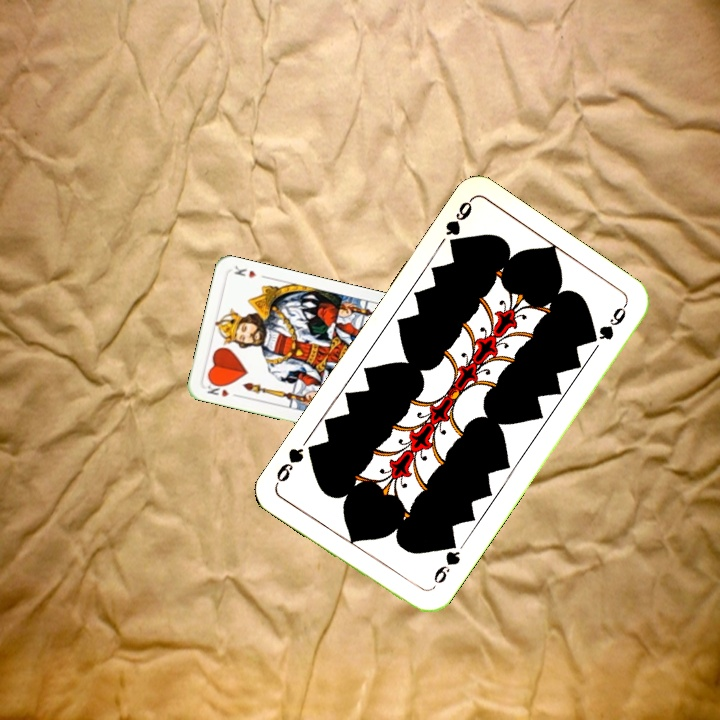G9: (426, 536, 463, 593), (441, 195, 475, 254)
HK: (203, 378, 241, 400)
